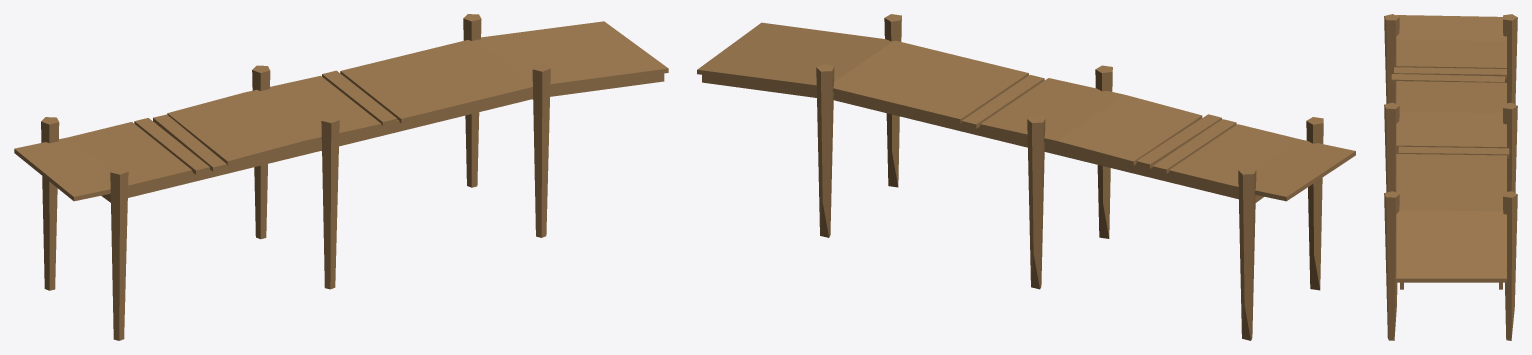
Rendered from dock_01.fbx.
3 views of the same model, side by side, from view 1: azimuth 30°, elevation 25°; view 2: azimuth 150°, elevation 25°; view 3: azimuth 270°, elevation 25° (orthographic). The views are drawn at different scales.
Visible parts, largest first — view 1: Circle.009, Circle.008; view 2: Circle.009, Circle.008; view 3: Circle.009, Circle.008.
Part boxes in pixels (x1=…): Circle.009: x1=14, y1=21, x2=668, y2=201; Circle.008: x1=41, y1=14, x2=550, y2=340; Circle.009: x1=697, y1=22, x2=1355, y2=201; Circle.008: x1=816, y1=14, x2=1323, y2=340; Circle.009: x1=1391, y1=15, x2=1509, y2=289; Circle.008: x1=1384, y1=14, x2=1517, y2=340.
Size of the model in its own units: 791 by 214 by 179.
